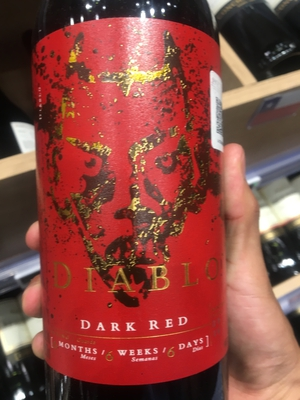diablo dark red: (31, 16, 244, 400)
